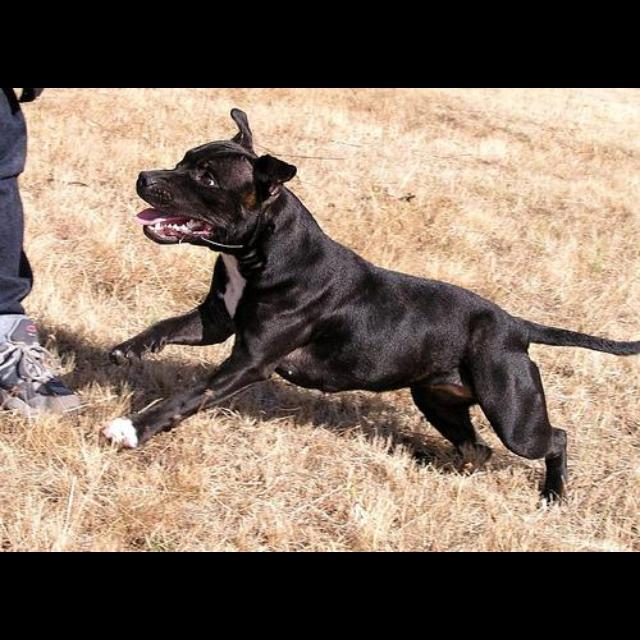staffford: (103, 107, 640, 511)
